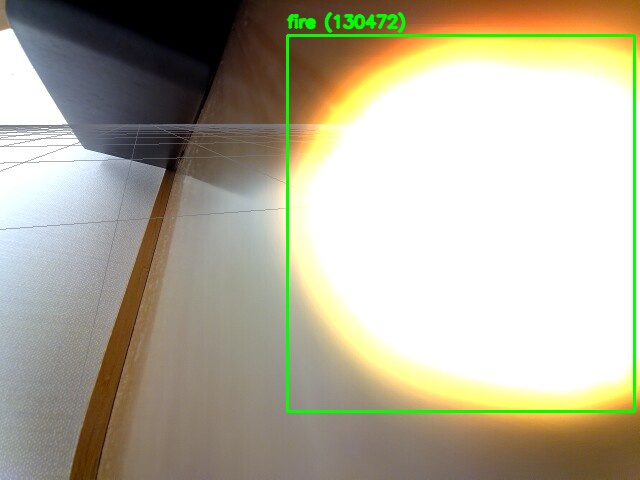fire: (287, 35, 634, 411)
